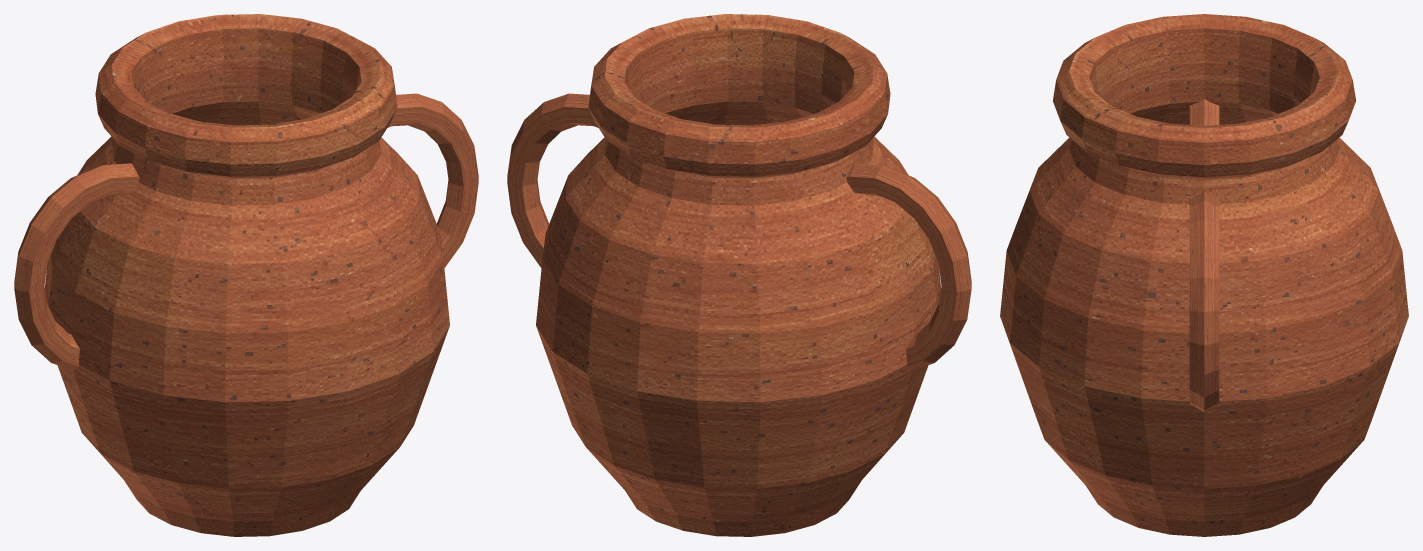
Rendered from earthenware_jar.glb.
The picture shows the model from 3 angles, left to right: view 1: azimuth 30°, elevation 25°; view 2: azimuth 150°, elevation 25°; view 3: azimuth 270°, elevation 25°; orthographic projection.
Parts seen in each view (by area): view 1: JarBodyAndInnerWall, JarLoopHandles; view 2: JarBodyAndInnerWall, JarLoopHandles; view 3: JarBodyAndInnerWall, JarLoopHandles.
Boxes of the visible parts, left/top/right/bottom form: JarBodyAndInnerWall: left=45, top=14, right=449, bottom=536; JarLoopHandles: left=14, top=93, right=478, bottom=370; JarBodyAndInnerWall: left=536, top=14, right=940, bottom=536; JarLoopHandles: left=507, top=93, right=971, bottom=370; JarBodyAndInnerWall: left=1000, top=14, right=1408, bottom=536; JarLoopHandles: left=1189, top=99, right=1219, bottom=412.
Bounding box in the file's own units: 0.812 × 0.7 × 0.62.
1 material, 1 textured.
